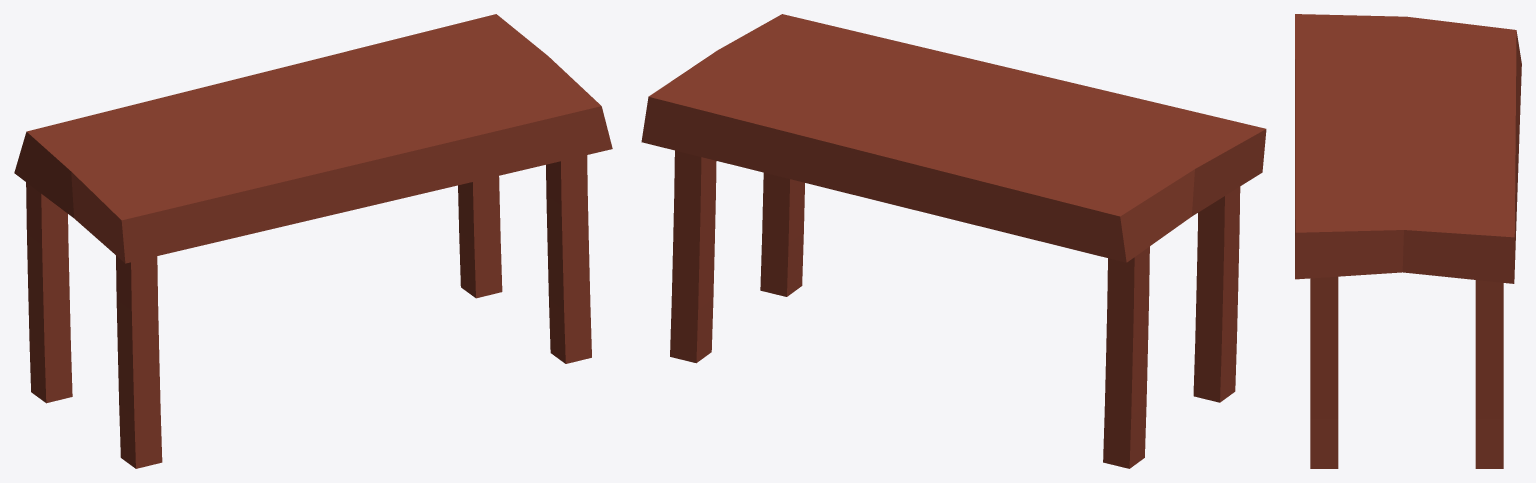
The model's file is Table_3a.fbx.
The picture shows the model from 3 angles, left to right: view 1: azimuth 30°, elevation 25°; view 2: azimuth 150°, elevation 25°; view 3: azimuth 270°, elevation 25°; orthographic projection. The views are drawn at different scales.
Visible parts, largest first — view 1: Table_3a; view 2: Table_3a; view 3: Table_3a.
Part boxes in pixels (x1=…): Table_3a: x1=14, y1=14, x2=612, y2=468; Table_3a: x1=641, y1=14, x2=1266, y2=468; Table_3a: x1=1295, y1=14, x2=1521, y2=468.
Size of the model in its own units: 219 by 110 by 93.06.
